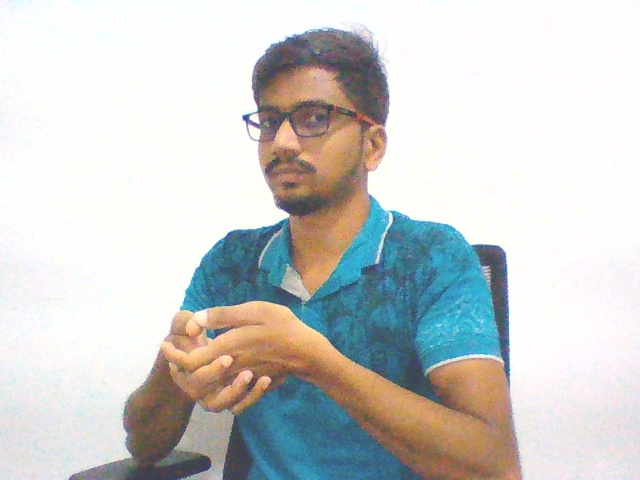mangosteen: (156, 295, 326, 420)
